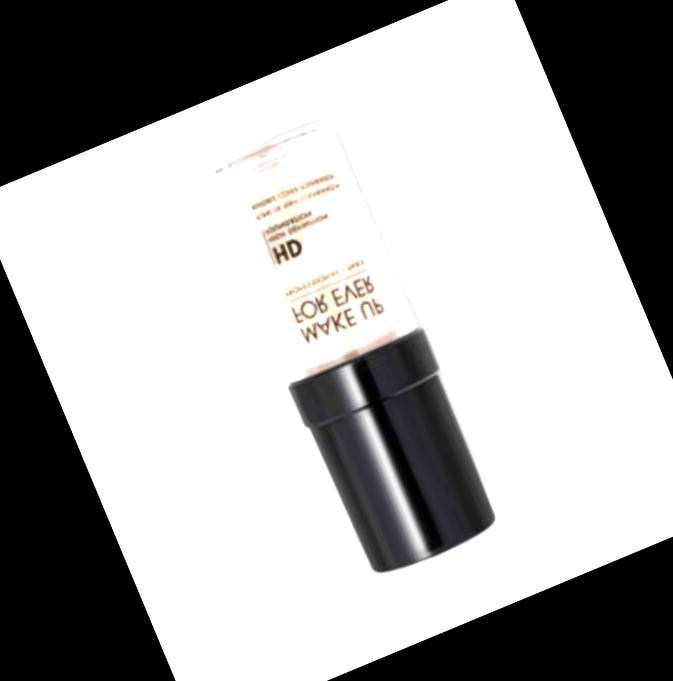cosmetic: (192, 112, 508, 585)
